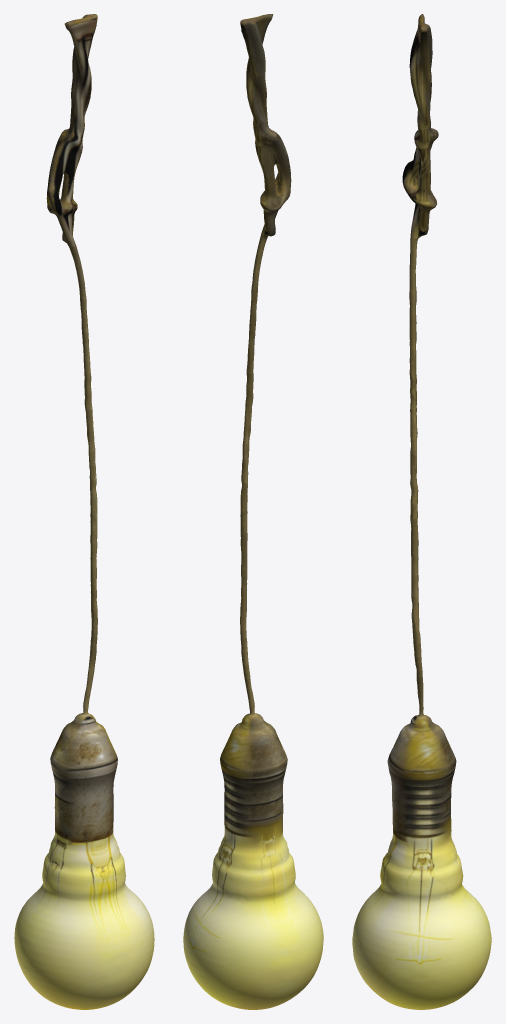
Rendered from Hanging_Bulb_1208091239_texture.fbx.
The picture shows the model from 3 angles, left to right: view 1: azimuth 30°, elevation 25°; view 2: azimuth 210°, elevation 25°; view 3: azimuth 270°, elevation 25°; orthographic projection.
Visible parts, largest first — view 1: Mesh1.0; view 2: Mesh1.0; view 3: Mesh1.0.
Boxes of the visible parts, x1,y1,x2,y2 form: Mesh1.0: (14, 14, 154, 1009); Mesh1.0: (183, 14, 323, 1009); Mesh1.0: (352, 14, 491, 1009).
Size of the model in its own units: 25.81 by 200 by 25.77.
1 material, 1 textured.
